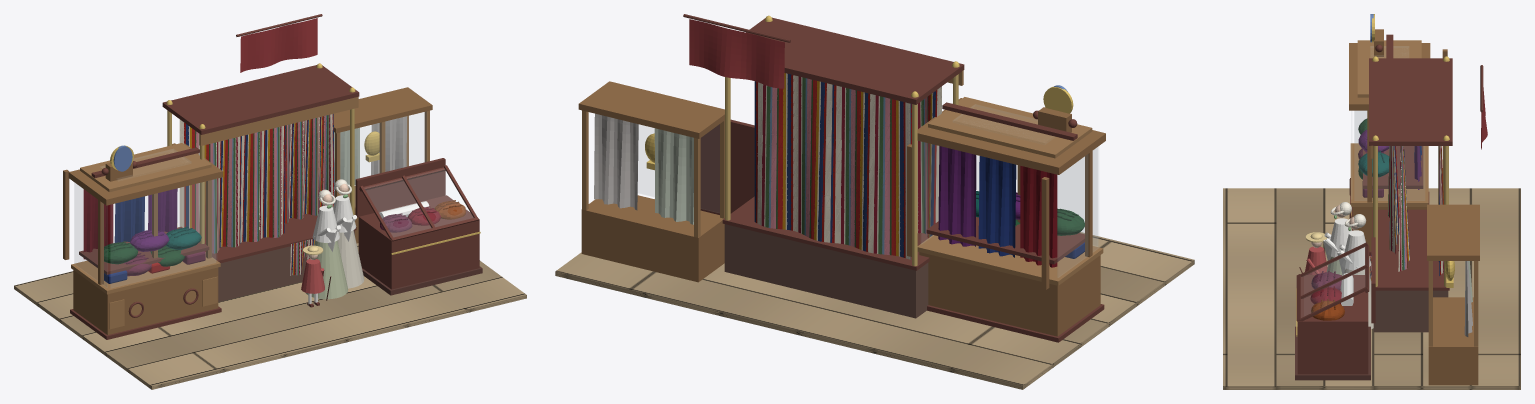
File: scan-fig49-bradford-court-textiles-muse.glb
3 views of the same model, side by side, from view 1: azimuth 30°, elevation 25°; view 2: azimuth 150°, elevation 25°; view 3: azimuth 270°, elevation 25° (orthographic). The views are drawn at different scales.
Parts seen in each view (by area): view 1: Floor_Boarded, Kiosk_GlassFront, StripeHanging_Main, Centre_CanopyRoof, Counter_Base, Kiosk_Base, StripeHanging_Right, Cabinet2_GlassFront, Counter_GlassSlope, Counter_BackBoard, Centre_Plinth, Banner_RedBlank (+31 smaller); view 2: Floor_Boarded, StripeHanging_Back, Centre_Plinth, Kiosk_Base, Centre_CanopyRoof, Cabinet2_Base, Banner_RedBlank, Cabinet2_TopRail, Kiosk_RoofSlab, Cabinet2_DrapeR, Kiosk_GlassSideL, Cabinet2_DrapeL (+25 smaller); view 3: Floor_Boarded, Centre_CanopyRoof, Counter_Base, Cabinet2_Base, Centre_PlinthTop, Cabinet2_TopRail, Kiosk_GlassSideR, Centre_Plinth, Counter_GlassSlope, Kiosk_BaseTopRail, Kiosk_RoofSlab, Kiosk_Shelf (+25 smaller).
Part boxes in pixels (box(x1,y1,x2,y2)): Floor_Boarded: box(14, 243, 526, 389); Kiosk_GlassFront: box(111, 179, 215, 287); StripeHanging_Main: box(198, 125, 285, 253); Centre_CanopyRoof: box(162, 65, 359, 134); Counter_Base: box(358, 195, 479, 289); Kiosk_Base: box(73, 267, 218, 334); StripeHanging_Right: box(285, 114, 334, 223); Cabinet2_GlassFront: box(340, 112, 425, 197); Counter_GlassSlope: box(366, 169, 472, 236); Counter_BackBoard: box(355, 158, 445, 217); Centre_Plinth: box(218, 230, 354, 301); Banner_RedBlank: box(240, 18, 317, 72); Floor_Boarded: box(555, 199, 1194, 389); StripeHanging_Back: box(754, 73, 910, 259); Centre_Plinth: box(724, 224, 928, 318); Kiosk_Base: box(919, 252, 1100, 336); Centre_CanopyRoof: box(746, 17, 964, 104); Cabinet2_Base: box(581, 195, 724, 282); Banner_RedBlank: box(689, 19, 784, 88); Cabinet2_TopRail: box(578, 81, 724, 138); Kiosk_RoofSlab: box(928, 97, 1092, 158); Cabinet2_DrapeR: box(594, 113, 638, 210); Kiosk_GlassSideL: box(1058, 147, 1098, 277); Cabinet2_DrapeL: box(654, 128, 693, 224); Floor_Boarded: box(1223, 188, 1520, 389); Centre_CanopyRoof: box(1369, 58, 1452, 145); Counter_Base: box(1297, 275, 1368, 374); Cabinet2_Base: box(1428, 297, 1478, 385); Centre_PlinthTop: box(1372, 209, 1449, 290); Cabinet2_TopRail: box(1427, 204, 1479, 260); Kiosk_GlassSideR: box(1355, 111, 1424, 200); Centre_Plinth: box(1373, 290, 1448, 332); Counter_GlassSlope: box(1304, 247, 1364, 315); Kiosk_BaseTopRail: box(1350, 143, 1428, 206); Kiosk_RoofSlab: box(1357, 40, 1421, 97); Kiosk_Shelf: box(1363, 146, 1423, 188).
Size of the model in its own units: 6.6 by 3.66 by 4.2.
Materials: 36 (2 with a texture image).
